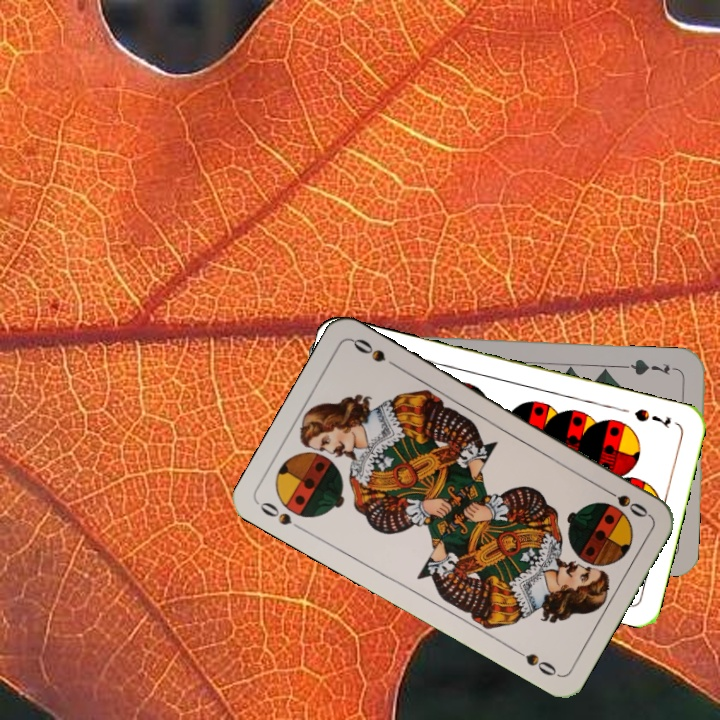G7: (622, 355, 673, 378)
S7: (630, 404, 674, 432)
SO: (598, 483, 652, 521), (256, 497, 308, 535)
